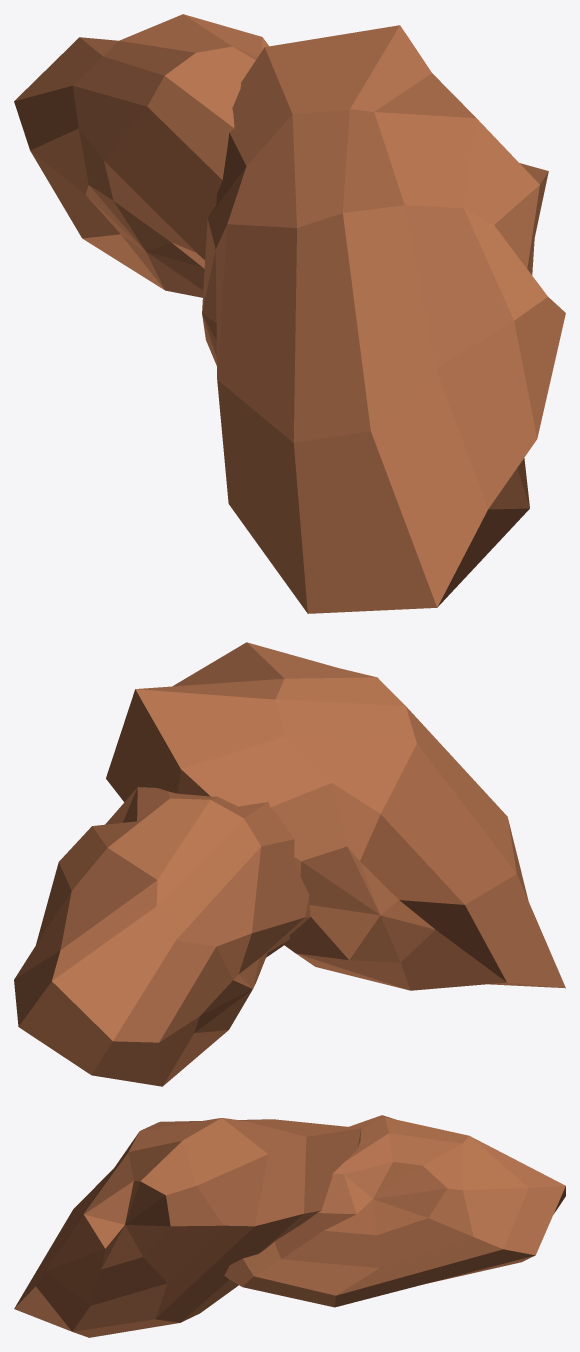
The model's file is Rocks.fbx.
3 renders of one model, top to bottom at view 1: azimuth 30°, elevation 25°; view 2: azimuth 150°, elevation 25°; view 3: azimuth 270°, elevation 25°, orthographic. The views are drawn at different scales.
Parts seen in each view (by area): view 1: polySurface20, polySurface19; view 2: polySurface20, polySurface19; view 3: polySurface20, polySurface19.
Boxes of the visible parts, x1,y1,x2,y2 form: polySurface20: (202,25,565,613); polySurface19: (14,14,268,297); polySurface20: (106,642,565,990); polySurface19: (14,787,310,1086); polySurface20: (14,1118,361,1337); polySurface19: (224,1115,565,1307).
Size of the model in its own units: 55.66 by 60.53 by 124.
